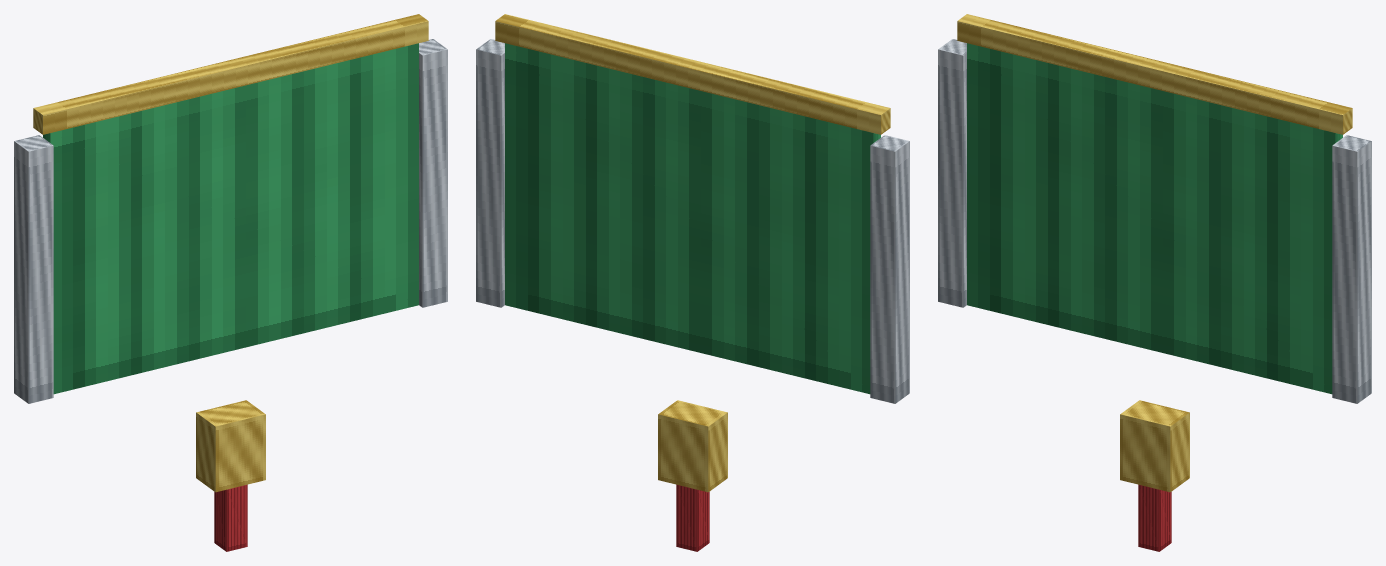
File: SM_War_Fan.obj
3 renders of one model, left to right at view 1: azimuth 30°, elevation 25°; view 2: azimuth 150°, elevation 25°; view 3: azimuth 330°, elevation 25°, orthographic.
Visible parts, largest first — view 1: SM_War_Fan; view 2: SM_War_Fan; view 3: SM_War_Fan.
Boxes of the visible parts, x1,y1,x2,y2 form: SM_War_Fan: (14,14,447,551); SM_War_Fan: (476,14,909,551); SM_War_Fan: (938,14,1371,551).
Size of the model in its own units: 1.25 by 1.37 by 0.1.
